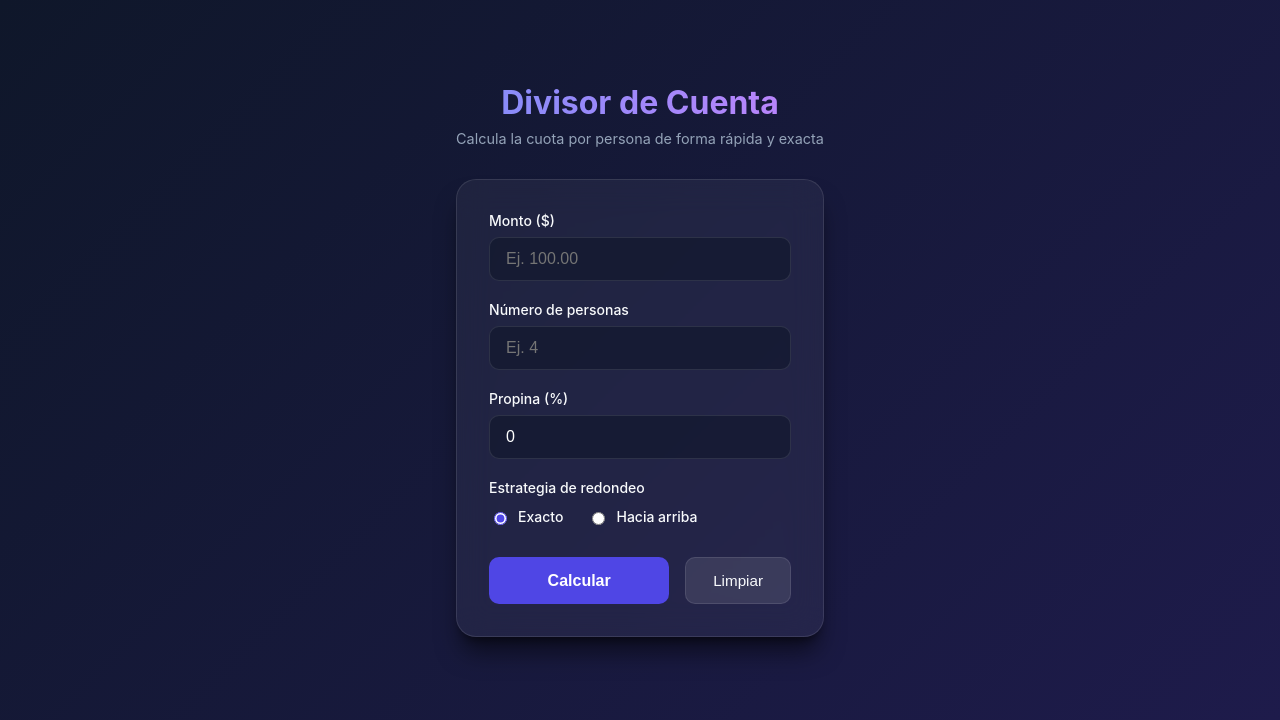
Scenario: Pruebas de la interfaz de usuario (Pantalla) › 1. Ingreso 100, 4 y 10, hago clic en "Calcular" y aparece "27.50" en pantalla
The width and height of the screenshot is (1280, 720).
Type "100" into the field labelled "Monto ($)" at point(640, 259), box [489, 237, 791, 281]
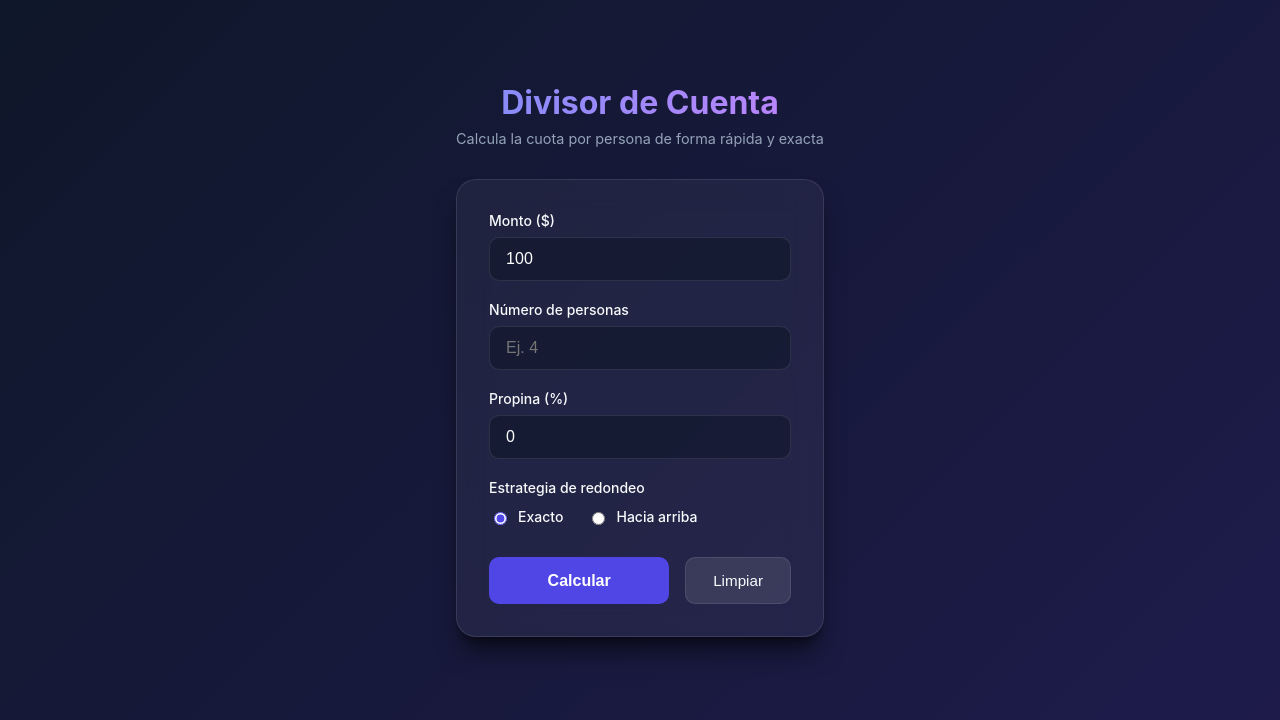
Type "4" into the field labelled "Número de personas" at point(640, 348), box [489, 326, 791, 370]
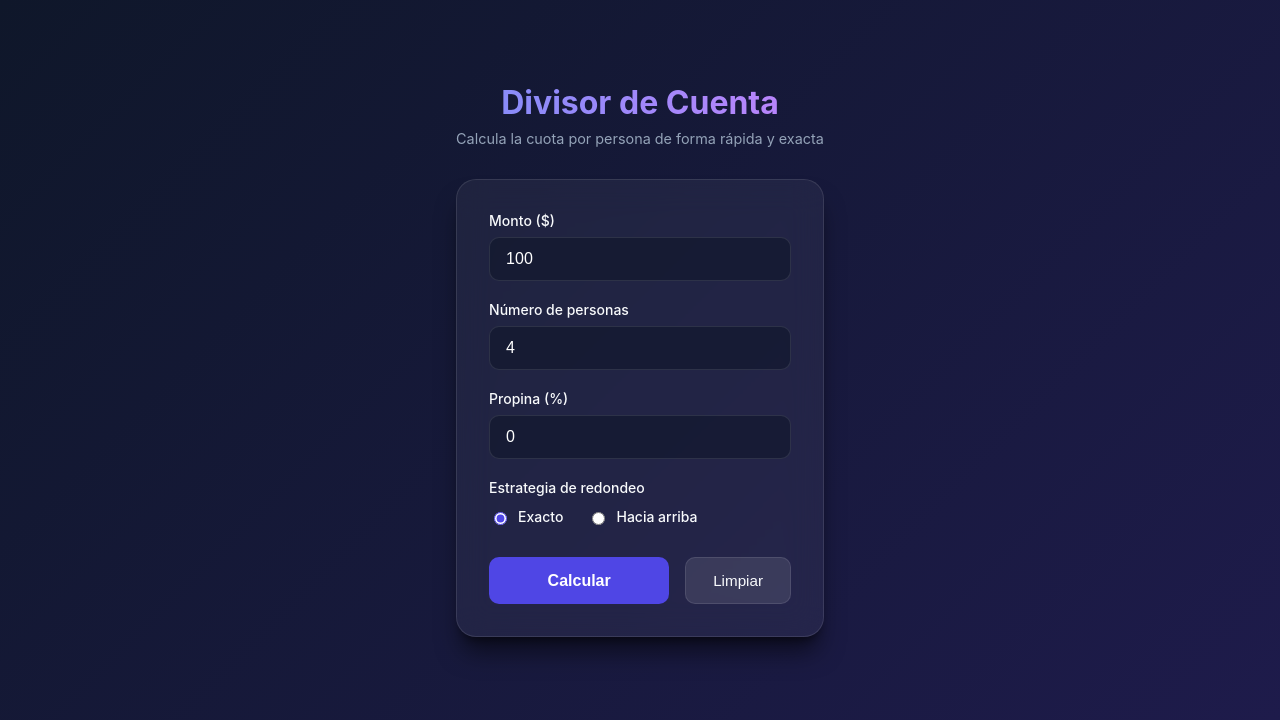
Type "10" into the field labelled "Propina (%)" at point(640, 437), box [489, 415, 791, 459]
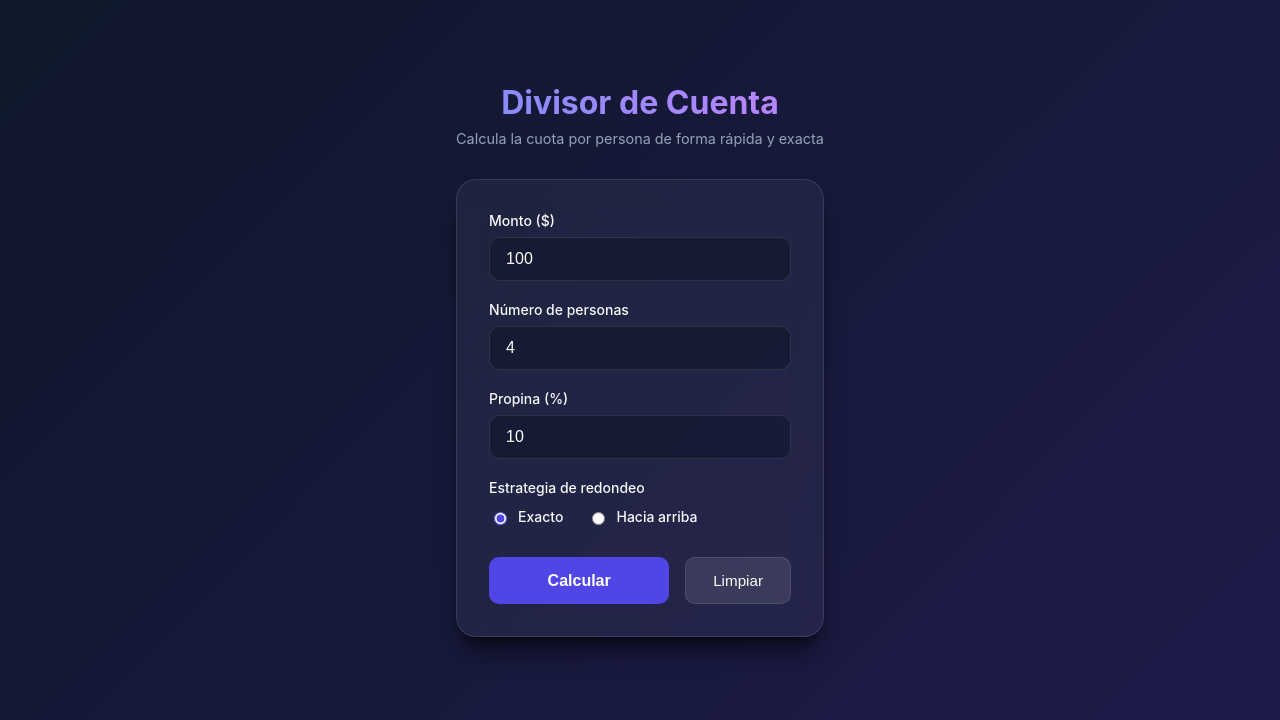
Click the button "Calcular" at point(579, 580), box [489, 557, 669, 604]
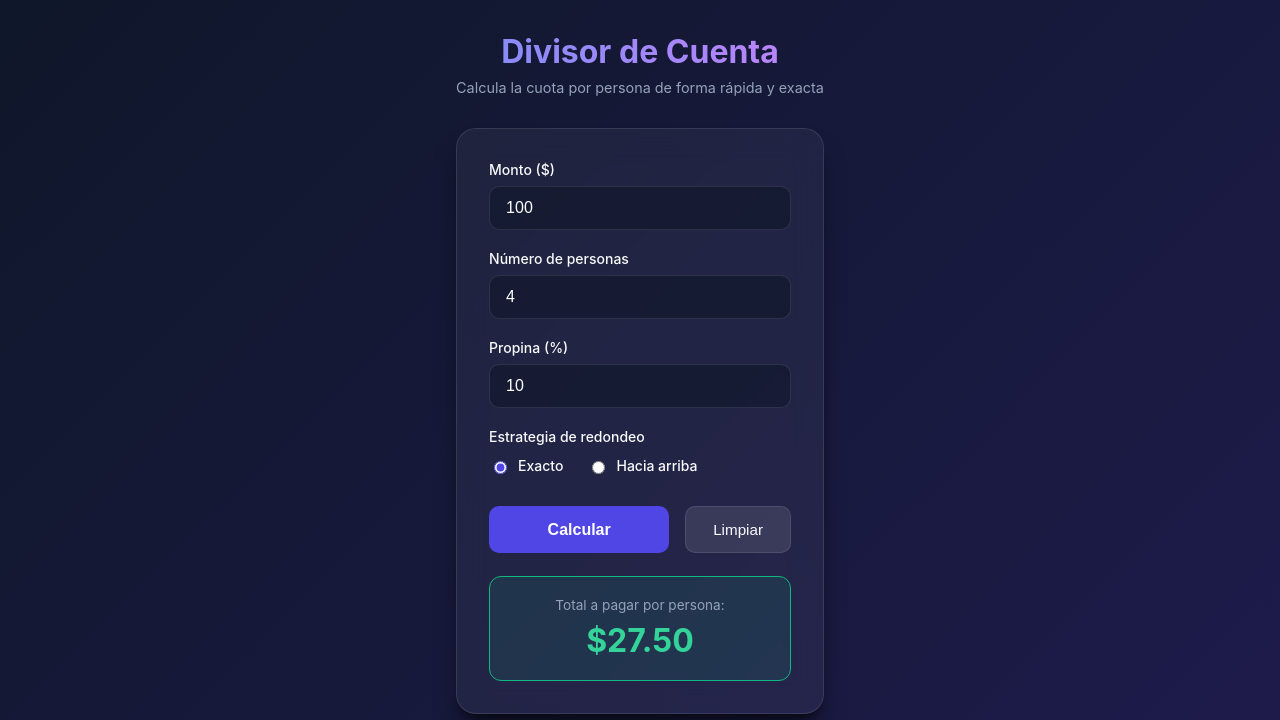
Expected: the text "$27.50" is shown, [586, 621, 694, 660]
